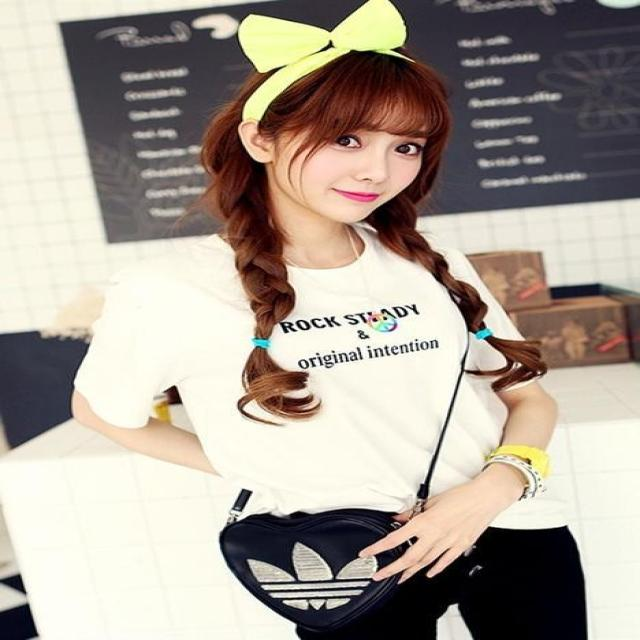short-sleeve-top: (65, 218, 640, 559)
